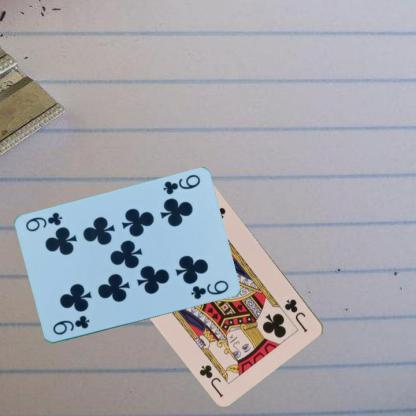9c: (160, 172, 202, 196), (50, 312, 90, 337)
Jc: (282, 296, 309, 334)
